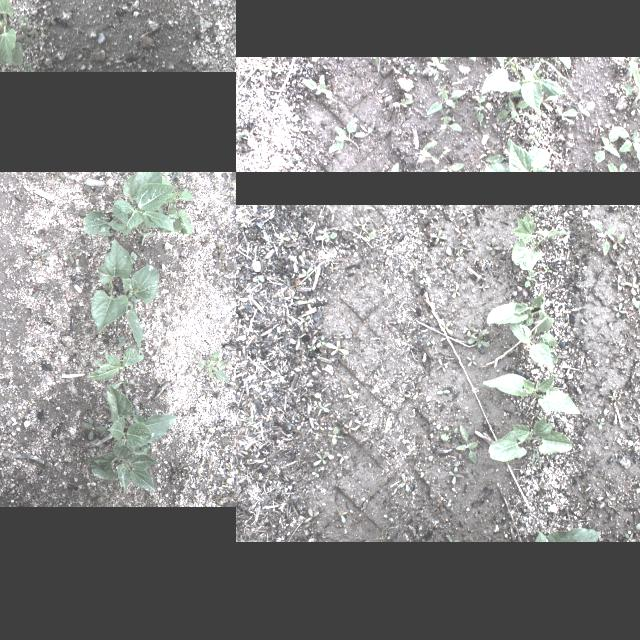crop: (86, 384, 180, 494), (84, 172, 194, 246), (90, 237, 160, 349), (486, 292, 556, 371), (479, 65, 567, 111), (483, 372, 581, 413), (488, 415, 574, 461), (512, 209, 566, 269), (468, 140, 566, 172), (84, 338, 144, 379), (534, 526, 600, 542), (0, 0, 16, 62), (0, 42, 23, 72)
weed: (326, 116, 374, 154), (424, 87, 471, 113), (612, 125, 640, 165), (198, 349, 228, 381), (590, 220, 616, 256), (459, 424, 479, 464), (412, 139, 442, 165), (498, 98, 528, 122), (595, 132, 619, 162), (621, 72, 640, 105), (236, 128, 260, 154), (426, 57, 454, 79), (303, 78, 333, 98), (607, 56, 640, 73), (564, 100, 594, 118), (82, 418, 106, 440), (367, 163, 424, 172), (526, 112, 542, 142), (257, 61, 285, 77), (598, 162, 640, 172), (436, 120, 462, 136), (17, 24, 37, 44), (326, 340, 350, 356), (87, 487, 107, 505), (475, 96, 487, 122), (79, 208, 101, 222), (298, 296, 320, 310), (435, 162, 464, 172), (391, 96, 415, 108), (84, 186, 100, 204), (448, 466, 464, 484), (486, 237, 502, 255), (314, 230, 338, 242), (397, 471, 411, 491), (468, 330, 488, 344), (472, 334, 491, 348), (484, 150, 506, 162), (31, 282, 49, 296), (329, 426, 343, 444), (628, 275, 640, 295), (405, 62, 421, 76), (542, 96, 558, 110), (313, 450, 327, 466), (352, 216, 368, 230), (288, 124, 310, 134), (556, 56, 574, 68), (212, 251, 224, 269), (0, 24, 11, 43), (304, 509, 318, 523), (335, 450, 349, 464), (62, 248, 78, 260), (318, 400, 330, 416), (440, 318, 452, 334), (615, 301, 627, 317), (614, 233, 626, 249), (283, 290, 299, 302), (458, 209, 474, 221), (159, 172, 182, 180), (33, 250, 51, 260), (440, 424, 450, 442), (429, 230, 447, 240), (240, 100, 252, 114), (124, 251, 136, 265), (436, 358, 448, 372), (634, 511, 640, 539), (448, 76, 468, 84), (374, 56, 384, 72), (276, 232, 292, 242), (42, 13, 56, 24), (362, 228, 373, 242), (467, 352, 478, 366), (252, 164, 271, 172), (628, 101, 640, 113), (455, 226, 467, 238), (42, 198, 56, 208), (354, 418, 368, 428), (344, 387, 354, 401), (298, 267, 312, 277), (464, 322, 474, 336), (406, 228, 420, 238), (528, 410, 542, 420), (47, 172, 66, 179), (438, 110, 454, 118), (338, 508, 346, 524), (437, 268, 453, 276), (54, 249, 64, 261), (215, 240, 225, 252), (299, 314, 311, 324), (401, 266, 413, 276), (401, 335, 411, 347), (606, 493, 616, 505), (452, 283, 460, 297), (456, 248, 464, 262), (616, 274, 624, 288), (526, 268, 532, 286), (132, 248, 142, 258), (543, 262, 553, 272), (596, 120, 604, 132), (118, 336, 126, 348), (117, 348, 133, 354), (624, 533, 636, 541), (598, 418, 606, 430), (506, 345, 518, 353), (419, 276, 431, 284), (513, 406, 525, 414), (636, 301, 640, 323), (437, 389, 451, 395), (25, 63, 35, 71), (496, 56, 504, 66), (306, 343, 316, 351), (232, 23, 236, 41), (478, 284, 490, 290), (516, 270, 522, 282), (36, 22, 44, 30), (608, 391, 616, 399), (41, 0, 51, 6), (310, 472, 320, 478), (318, 336, 324, 346), (426, 340, 436, 346), (20, 14, 28, 20), (76, 262, 82, 270), (398, 394, 410, 398), (152, 495, 158, 501), (76, 27, 80, 35), (211, 172, 221, 175), (2, 315, 8, 319), (79, 240, 83, 246), (55, 500, 59, 504), (48, 66, 54, 68), (196, 24, 198, 28)
